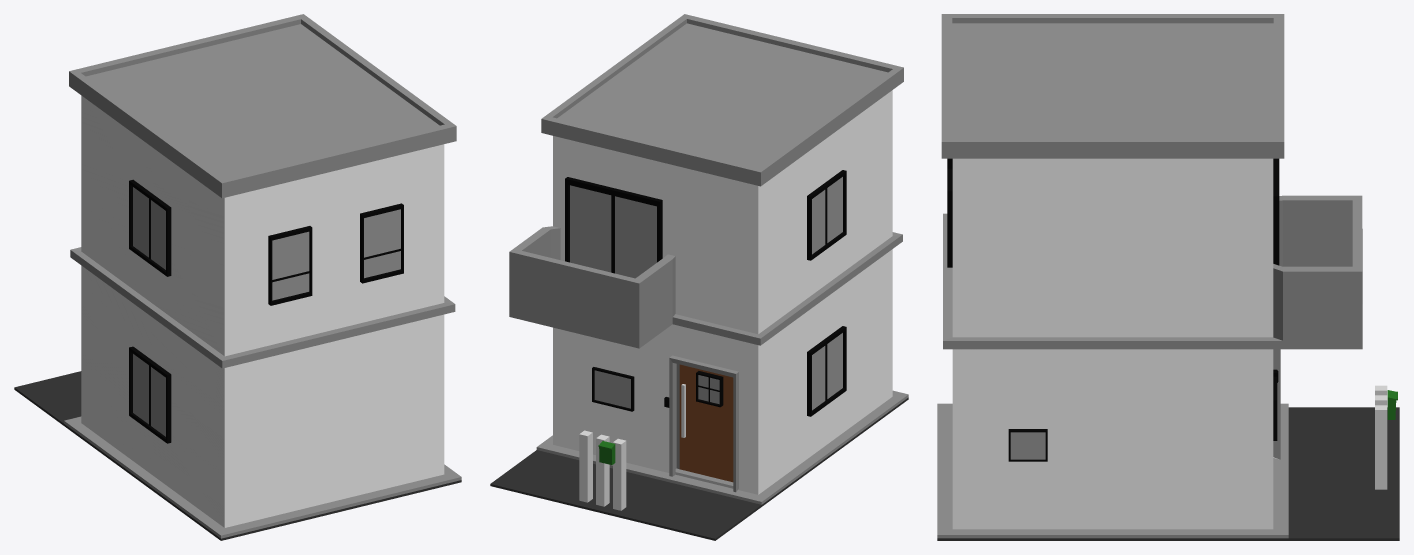
The model's file is House_001.fbx.
The picture shows the model from 3 angles, left to right: view 1: azimuth 30°, elevation 25°; view 2: azimuth 150°, elevation 25°; view 3: azimuth 270°, elevation 25°; orthographic projection. The views are drawn at different scales.
Parts seen in each view (by area): view 1: Cube; view 2: Cube; view 3: Cube.
Part boxes in pixels (x1,y1,x2,y2): Cube: (14,14,461,540); Cube: (490,14,908,540); Cube: (937,14,1399,540).
Size of the model in its own units: 3654 by 5159 by 5439.
